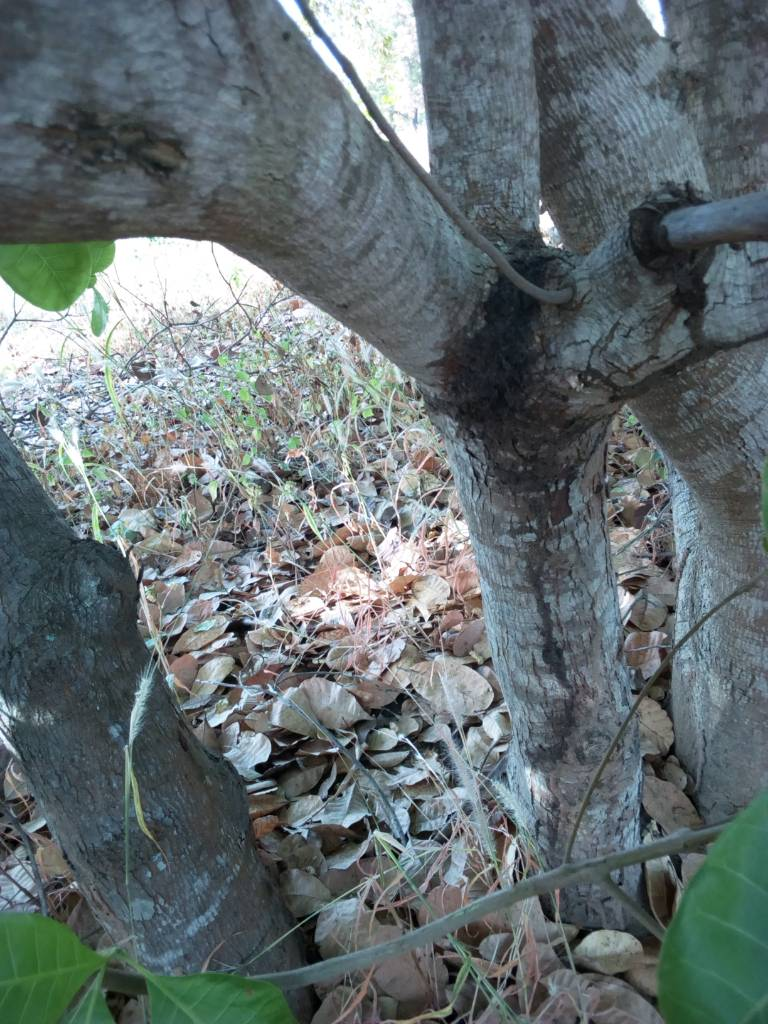Gommose: (450, 277, 552, 433)
